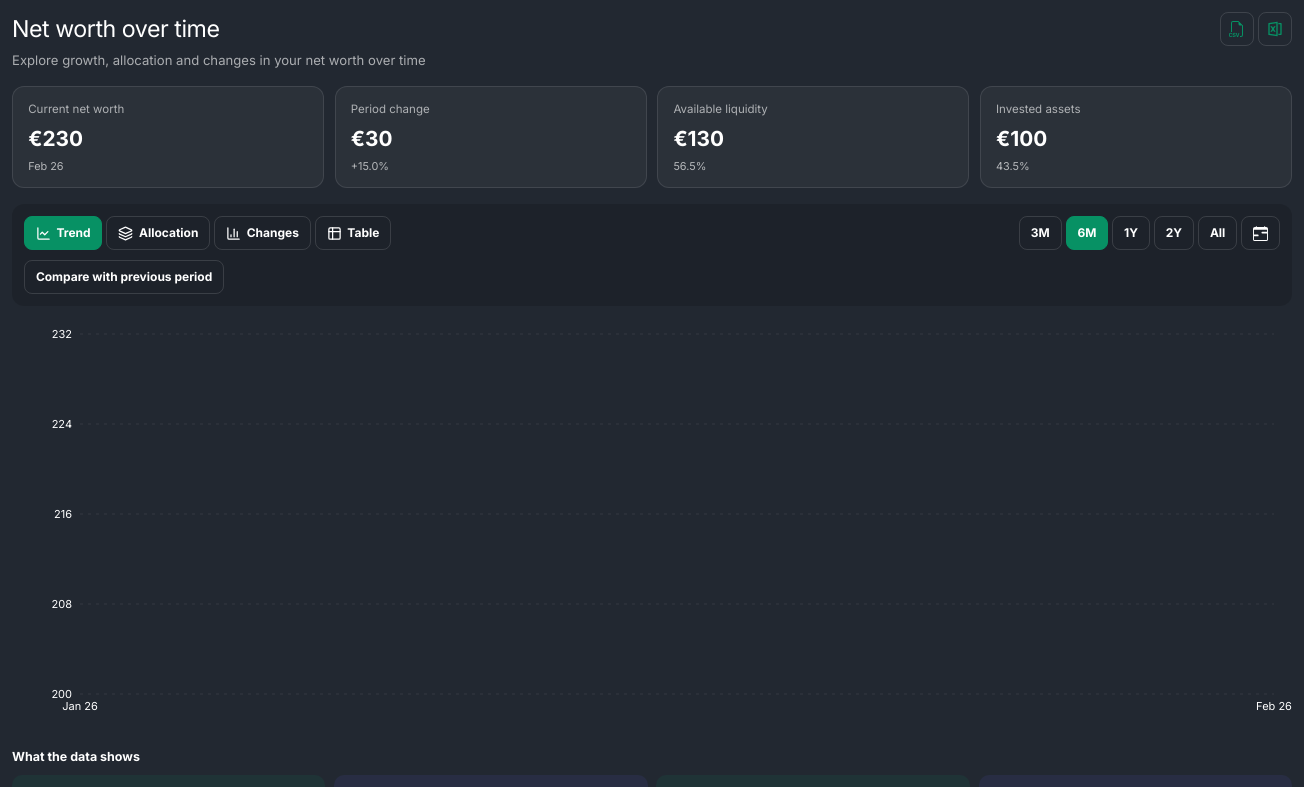
BalancesChart › switches to the numerical table
Click the button "Table". click: (353, 233)
box: [315, 216, 391, 250]
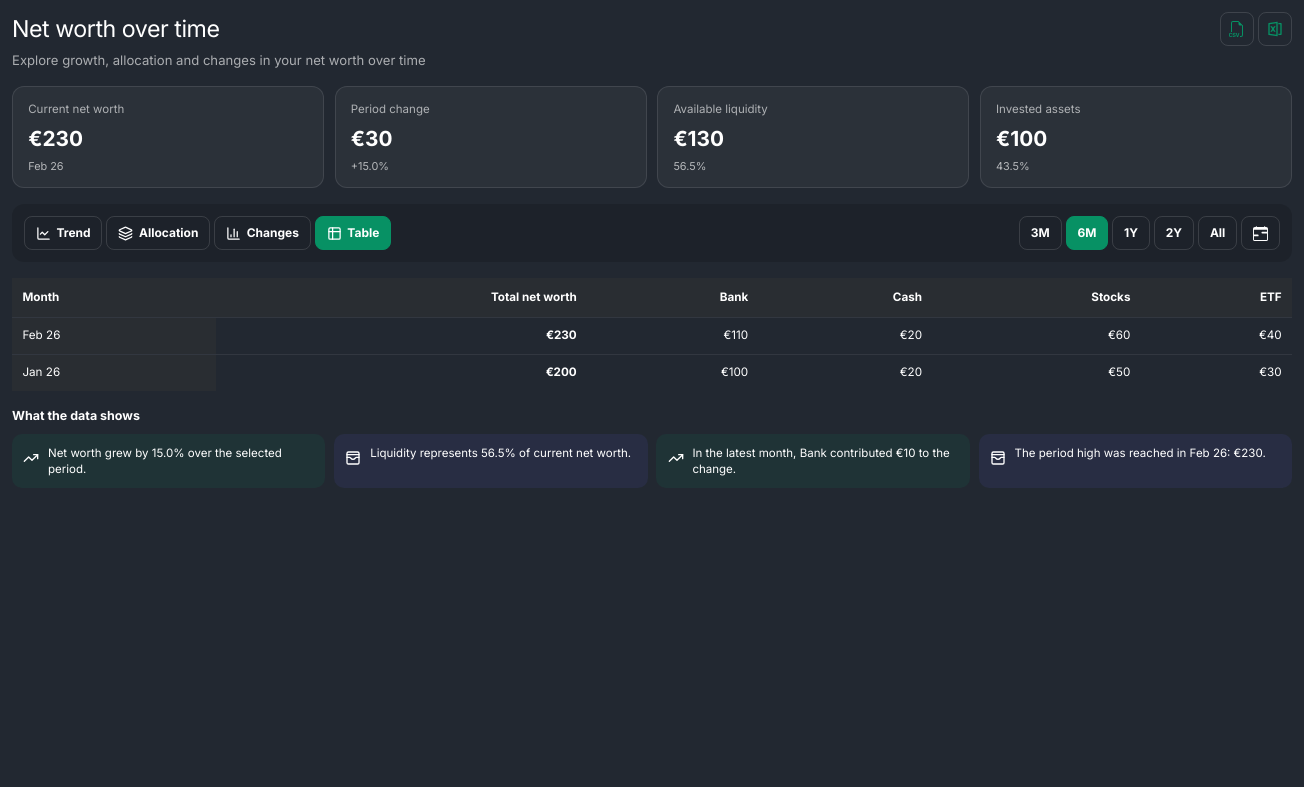
Expected: the text "Feb 26" is shown, [28, 158, 64, 172]
Expected: the table is shown, [12, 278, 1292, 391]
